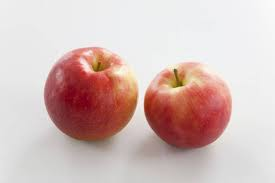apple: (42, 45, 139, 142), (143, 60, 233, 151)
